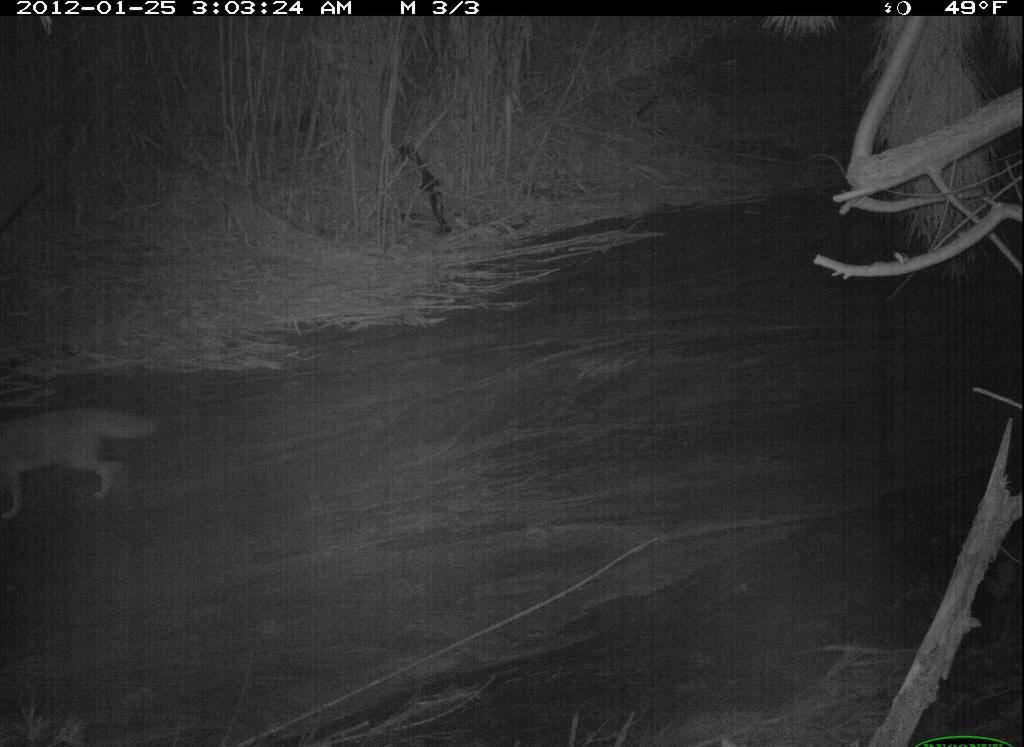coyote: (1, 393, 175, 527)
